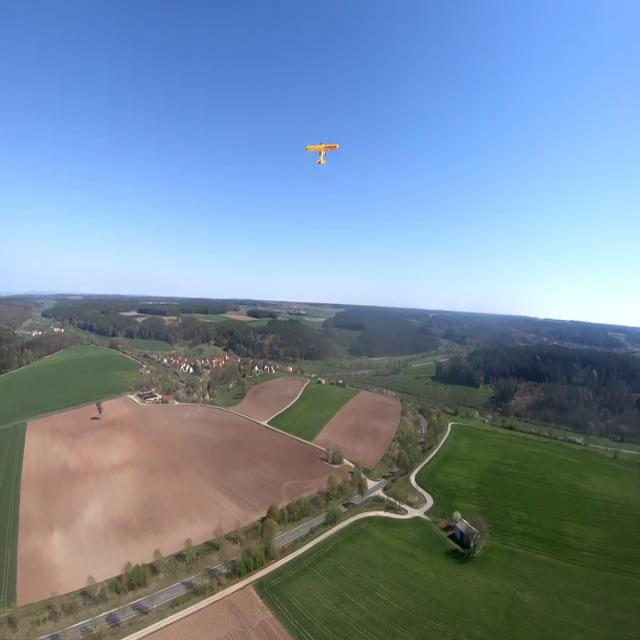iha: (305, 139, 338, 165)
